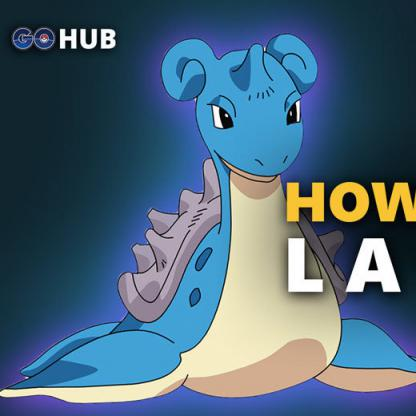Lapras: (9, 26, 414, 407)
